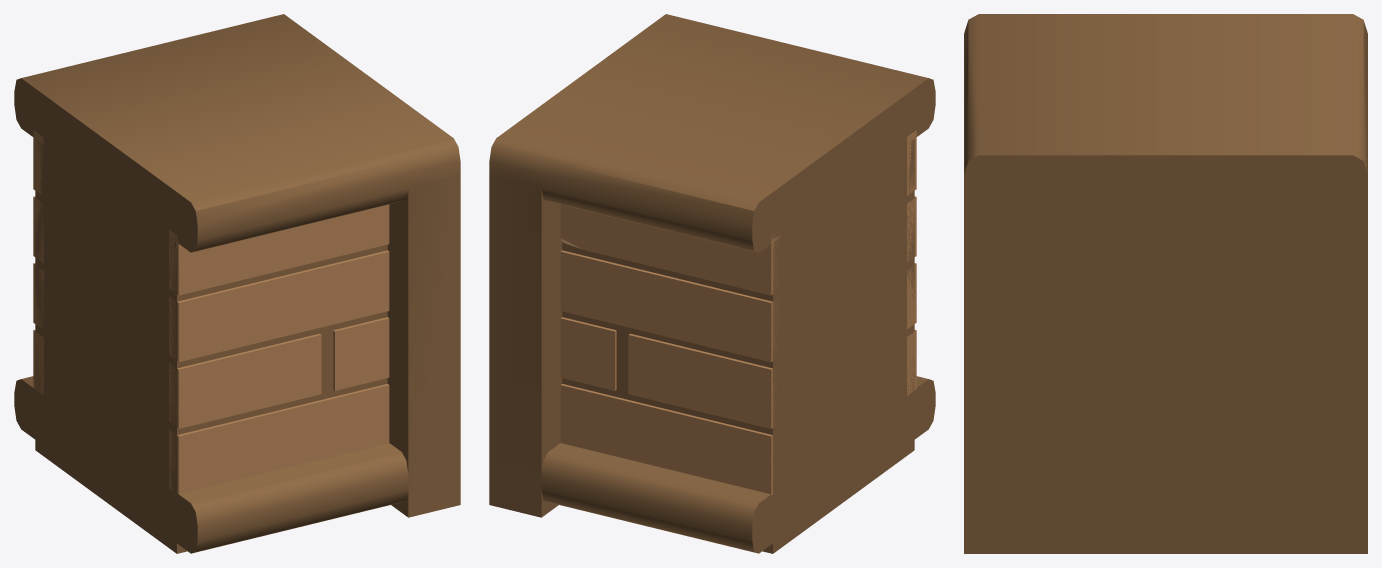
File: counter-end.glb
The picture shows the model from 3 angles, left to right: view 1: azimuth 30°, elevation 25°; view 2: azimuth 150°, elevation 25°; view 3: azimuth 270°, elevation 25°; orthographic projection. The views are drawn at different scales.
Visible parts, largest first — view 1: Environment_Counter_End; view 2: Environment_Counter_End; view 3: Environment_Counter_End.
Boxes of the visible parts, bbox=[...] form: Environment_Counter_End: bbox=[14, 14, 460, 553]; Environment_Counter_End: bbox=[489, 14, 935, 553]; Environment_Counter_End: bbox=[964, 14, 1367, 553].
Size of the model in its own units: 1.46 by 1.92 by 1.77.
